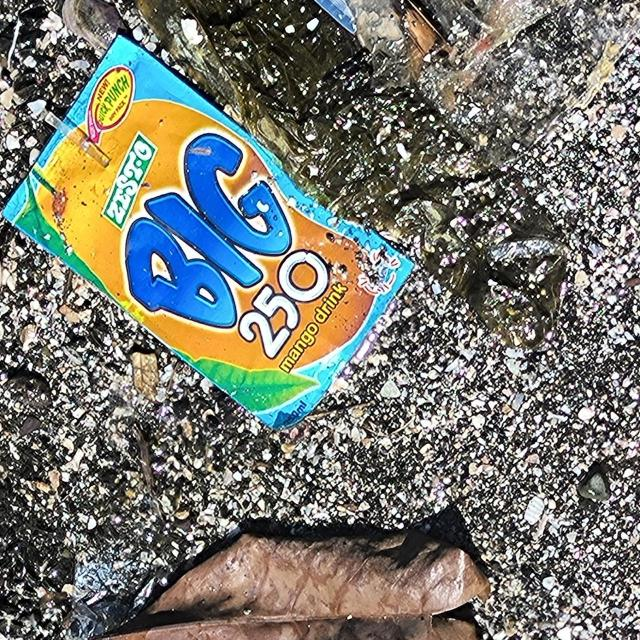plastic_waste: (10, 28, 418, 426)
